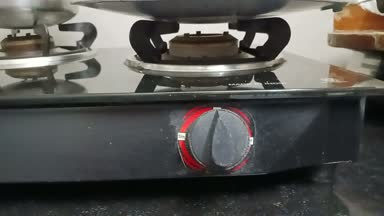noflame_gason: (125, 19, 302, 184)
